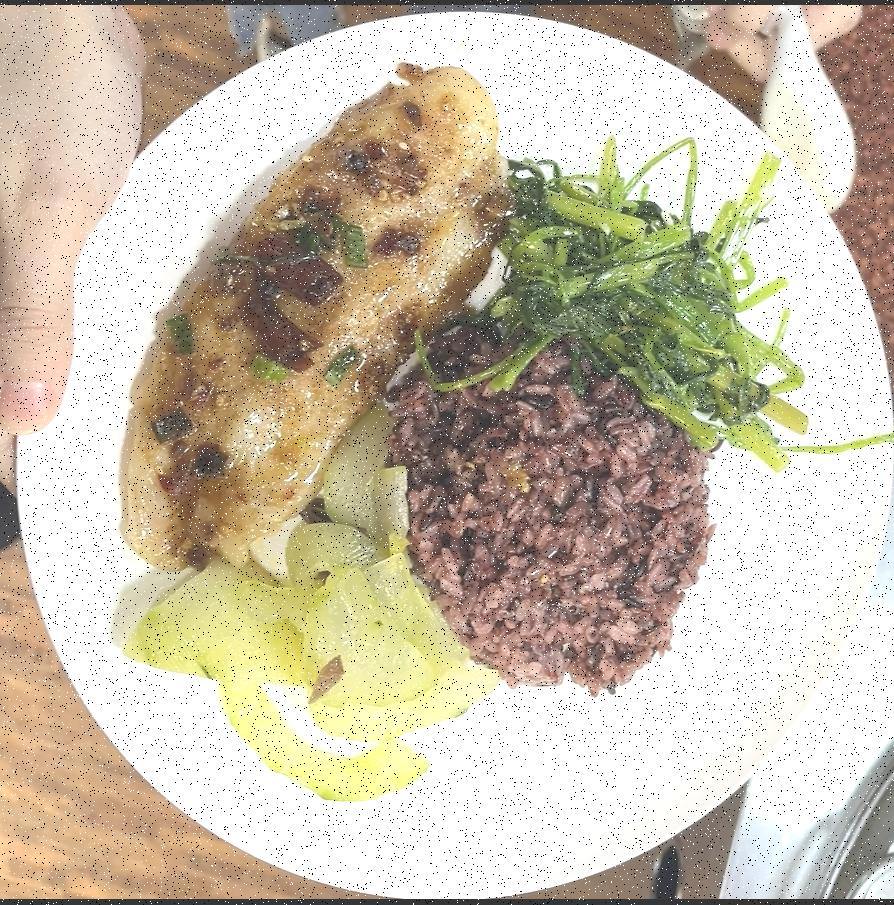braised fish fillet: (118, 59, 513, 566)
plate: (6, 5, 893, 900)
purple rice: (415, 323, 711, 700)
side dish: (102, 412, 509, 807), (495, 166, 805, 455)
